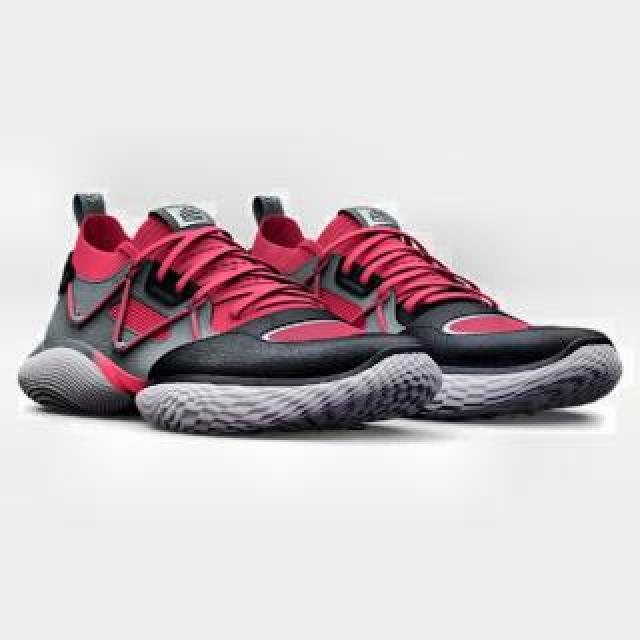shoes: (15, 195, 447, 429), (217, 195, 625, 421)
